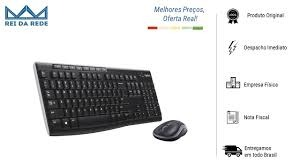keyboard: (28, 63, 162, 131)
mouse: (158, 120, 194, 147)
